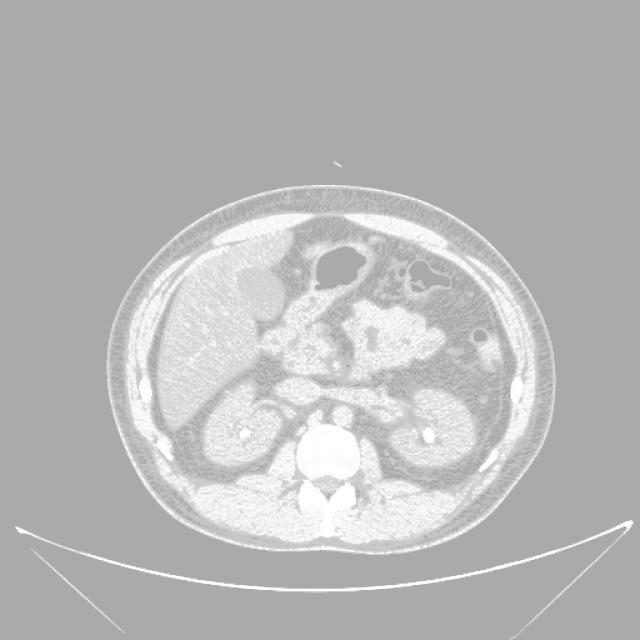STONE: (289, 214, 511, 376)
